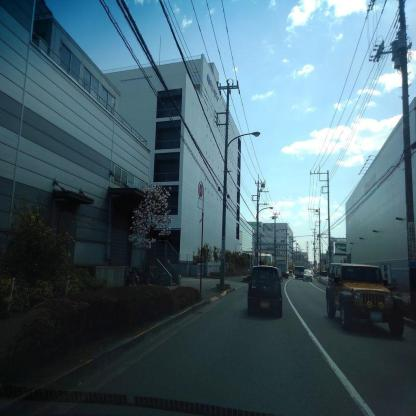Someiyoshino: (125, 176, 180, 254)
